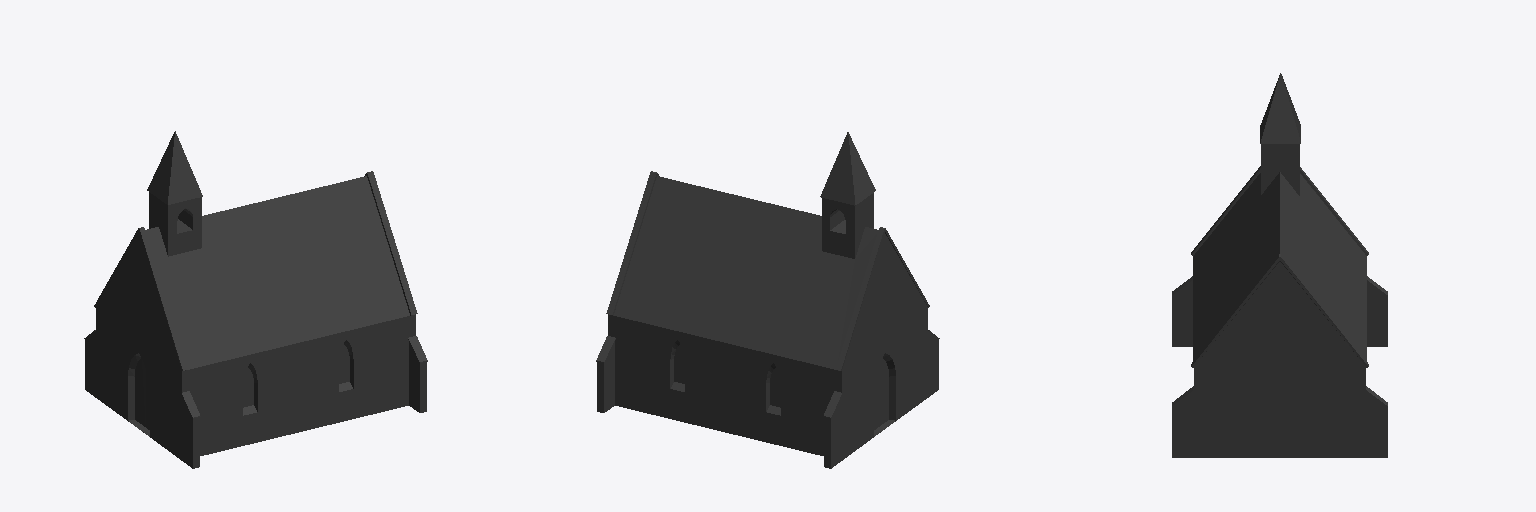
The model's file is chapel_I.obj.
3 renders of one model, left to right at view 1: azimuth 30°, elevation 25°; view 2: azimuth 150°, elevation 25°; view 3: azimuth 270°, elevation 25°, orthographic.
Parts seen in each view (by area): view 1: Mesh_Mesh_chapel; view 2: Mesh_Mesh_chapel; view 3: Mesh_Mesh_chapel.
Boxes of the visible parts, x1=… form: Mesh_Mesh_chapel: x1=84, y1=131, x2=427, y2=468; Mesh_Mesh_chapel: x1=596, y1=132, x2=939, y2=468; Mesh_Mesh_chapel: x1=1172, y1=73, x2=1387, y2=457.
Size of the model in its own units: 0.3282 by 0.3861 by 0.2619.